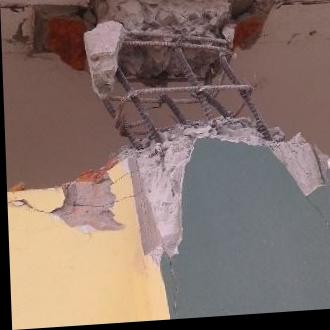crack: (72, 197, 135, 209), (286, 148, 307, 179), (6, 200, 50, 214), (274, 3, 330, 14), (309, 151, 324, 189), (0, 4, 32, 14), (108, 174, 127, 188), (275, 150, 283, 161)
damage: (30, 0, 330, 265), (3, 18, 31, 45)
